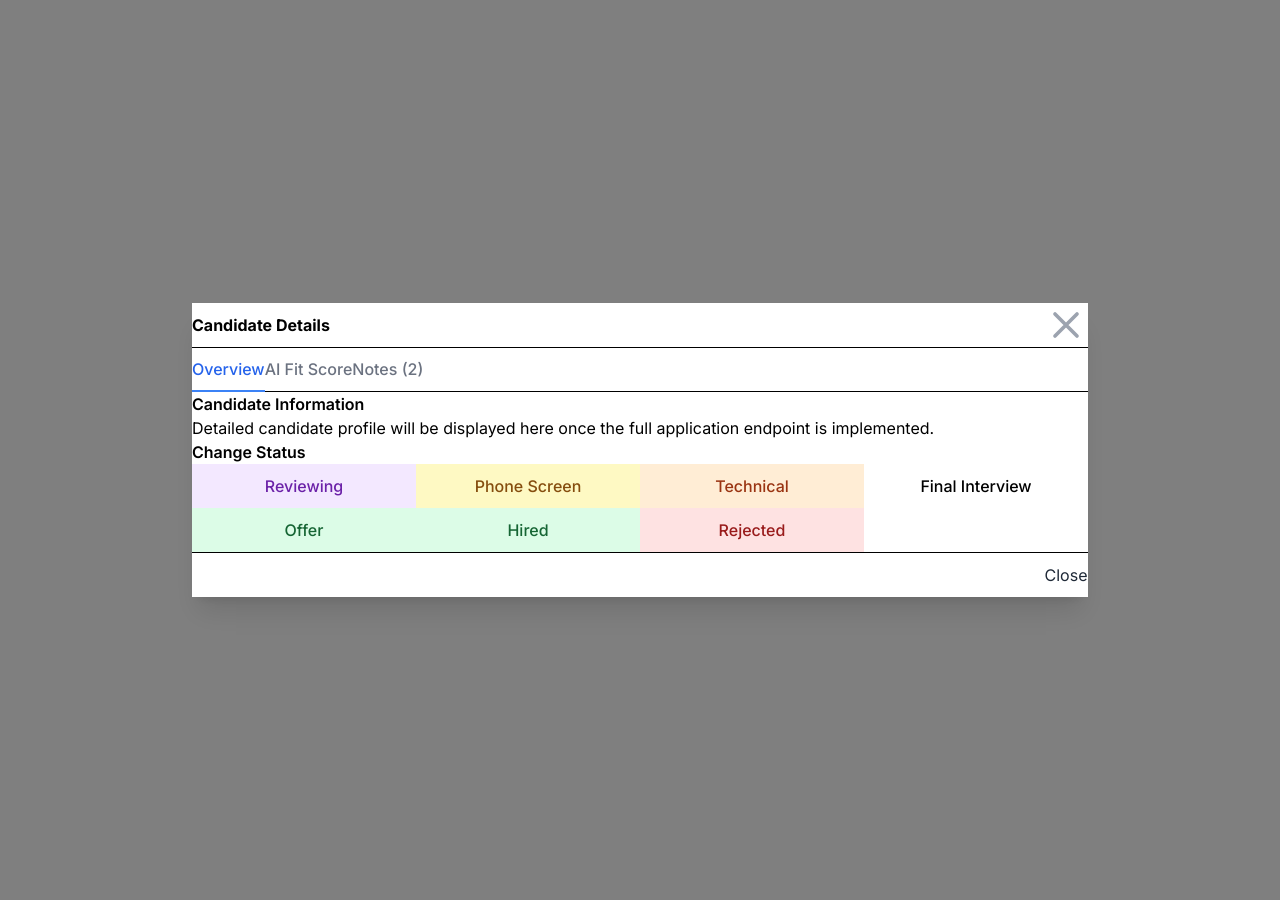
Test case: CandidateDetailModal Component › Tab Navigation › should switch to AI Fit Score tab when clicked
The image size is (1280, 900).
Expected: the heading "Candidate Details" is shown, 192,313 -> 330,337
Click the button "AI Fit Score" at (308, 370), box 265,348 -> 352,392
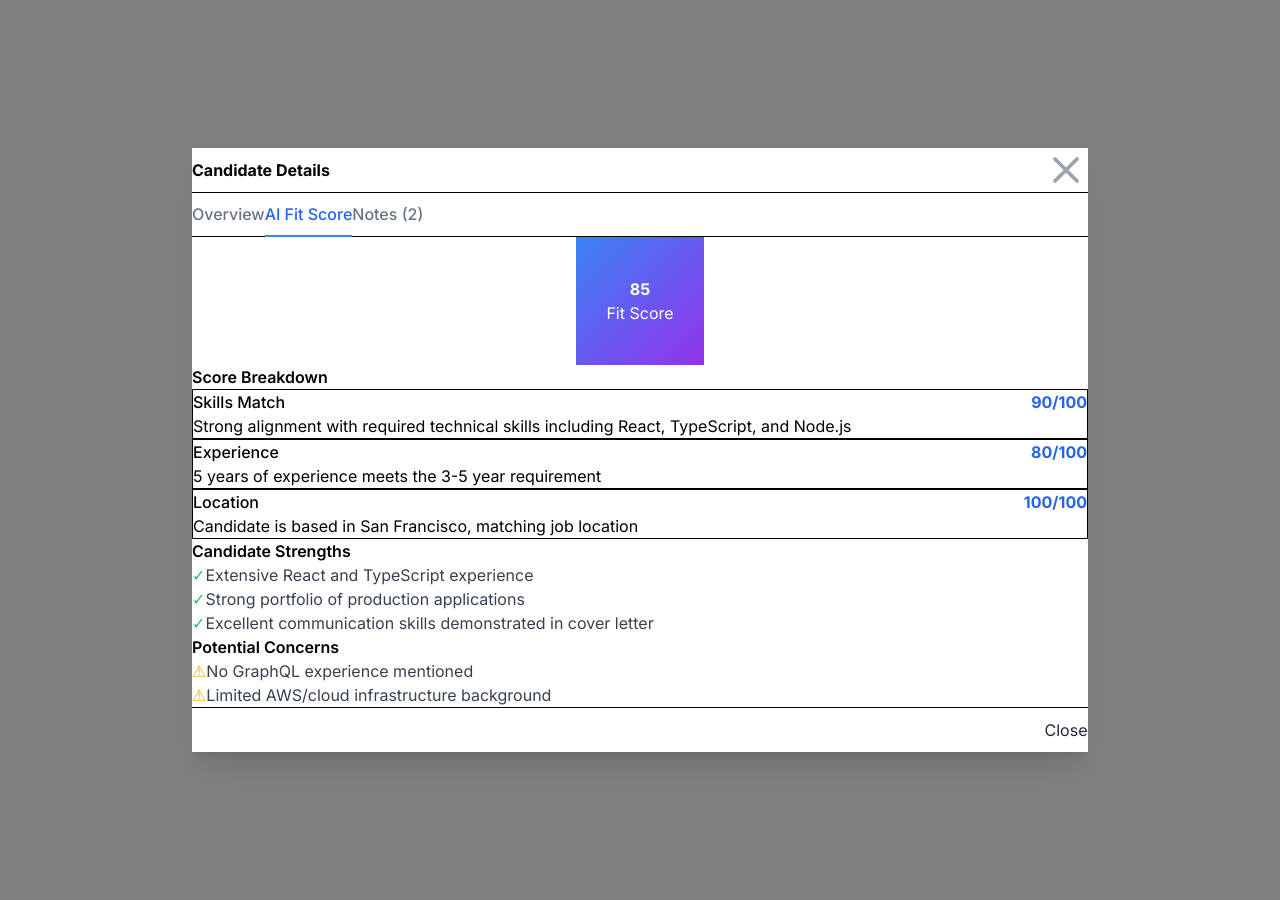
Expected: the text "Fit Score" is shown, 606,301 -> 674,325
